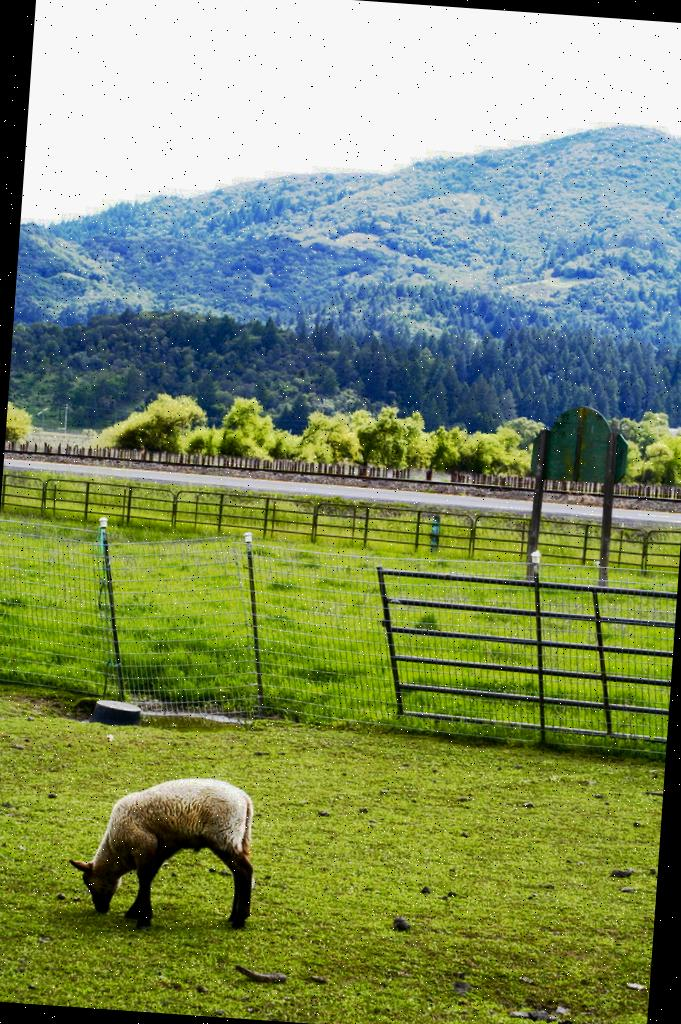Sheep: (63, 767, 259, 934)
